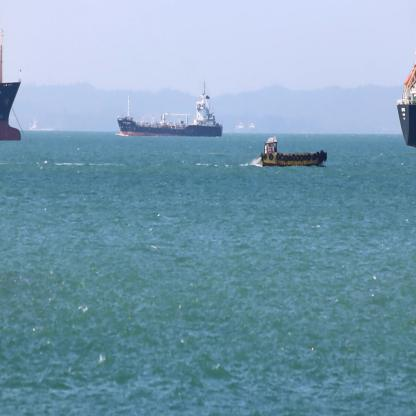Container Ship: (117, 80, 223, 139), (1, 28, 21, 143), (396, 61, 415, 149)
